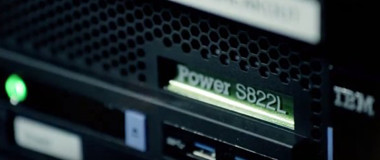ibm-server: (111, 35, 332, 158)
